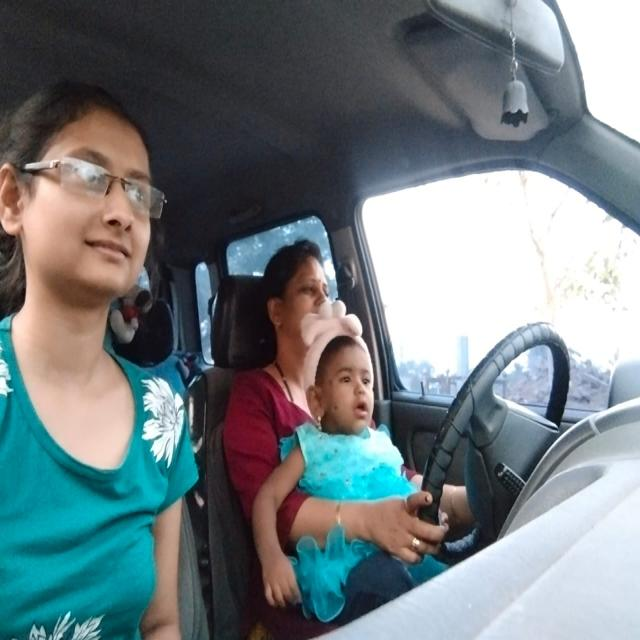child: (312, 337, 384, 437)
person: (0, 85, 170, 332), (262, 238, 344, 342)
